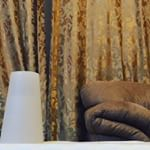cups: (1, 67, 46, 147)
